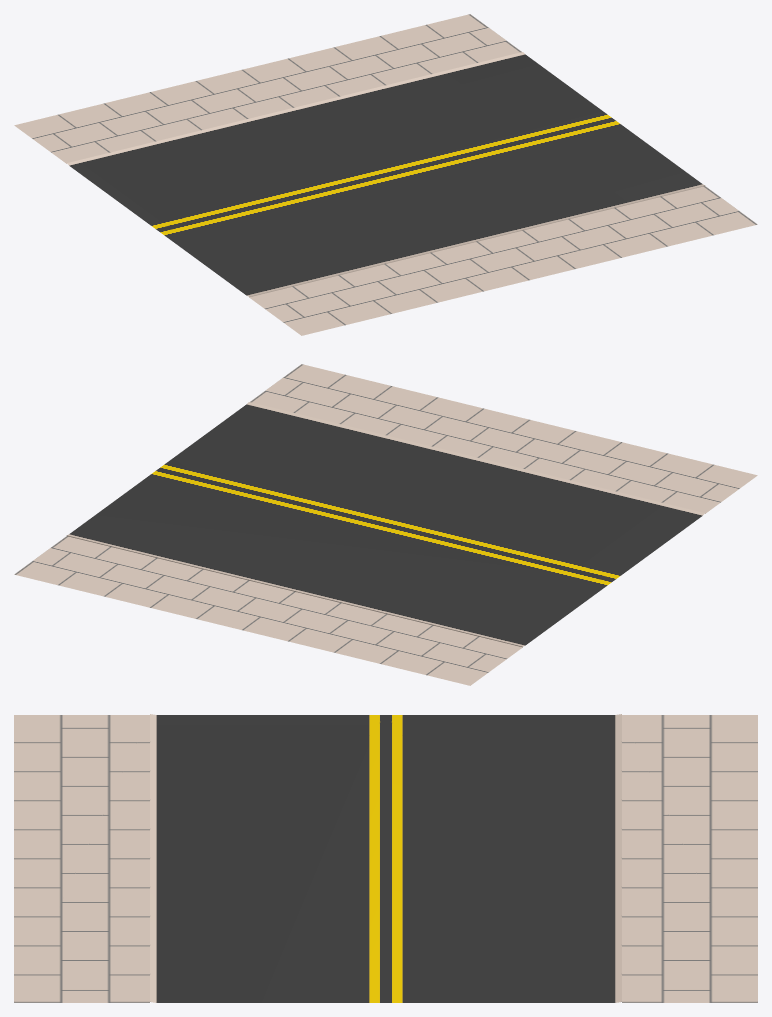
Rendered from SidewalkWithStreet.fbx.
3 renders of one model, top to bottom at view 1: azimuth 30°, elevation 25°; view 2: azimuth 150°, elevation 25°; view 3: azimuth 270°, elevation 25°, orthographic. The views are drawn at different scales.
Parts seen in each view (by area): view 1: Sidewalk; view 2: Sidewalk; view 3: Sidewalk.
Boxes of the visible parts, x1,y1,x2,y2 form: Sidewalk: (14,14,757,335); Sidewalk: (14,364,757,685); Sidewalk: (14,714,757,1002).
Bounding box in the file's own units: 6000 × 8.97 × 6551.
1 material, 1 textured.
